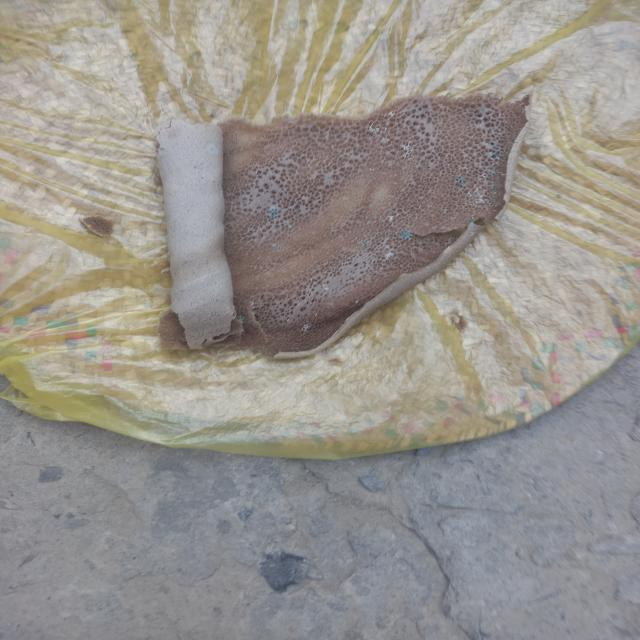injera_mold: (468, 184, 490, 204), (380, 245, 398, 262), (400, 141, 415, 158), (478, 168, 498, 180), (298, 321, 314, 335), (396, 228, 414, 240), (366, 121, 384, 133), (492, 192, 502, 205), (454, 176, 466, 186), (268, 207, 278, 217), (388, 110, 399, 118), (490, 152, 501, 160), (284, 220, 293, 229), (238, 314, 246, 324), (270, 243, 282, 249), (208, 146, 217, 152), (462, 167, 471, 173), (491, 184, 500, 190), (361, 241, 368, 247), (388, 215, 395, 221), (365, 220, 371, 226), (486, 108, 493, 113), (322, 287, 330, 291), (443, 208, 448, 214), (354, 300, 359, 305), (394, 213, 400, 217), (342, 197, 349, 200), (339, 269, 344, 273), (314, 312, 318, 316), (371, 259, 375, 262)
